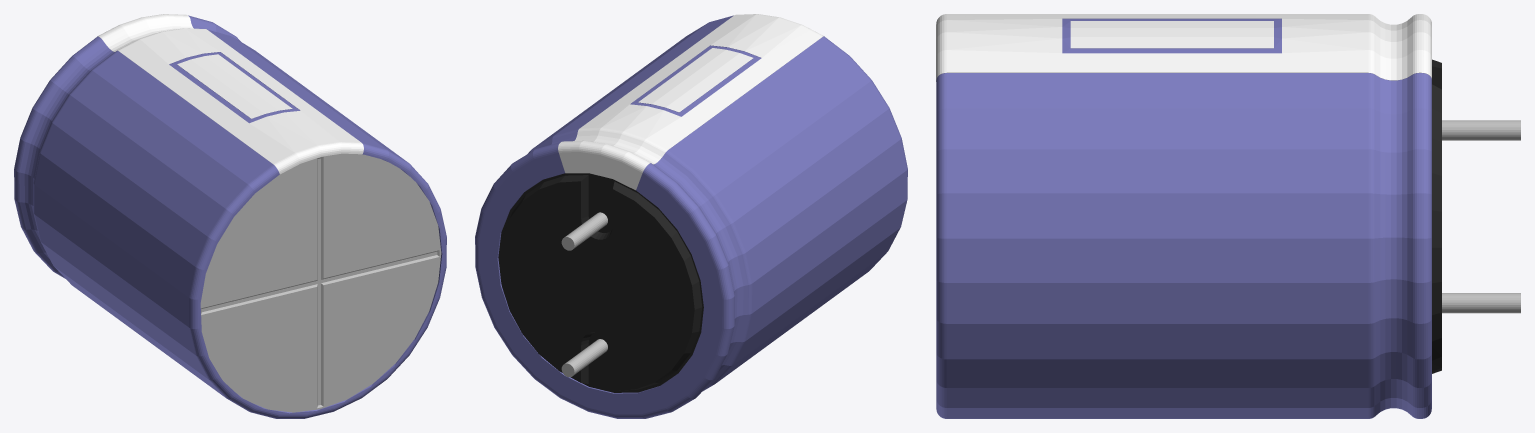
File: cap_el_d16_h20_pitch7.5_w0.8.obj
3 renders of one model, left to right at view 1: azimuth 30°, elevation 25°; view 2: azimuth 150°, elevation 25°; view 3: azimuth 270°, elevation 25°, orthographic. The views are drawn at different scales.
Visible parts, largest first — view 1: cap_el_d16_h20_pitch7.5_w0.8; view 2: cap_el_d16_h20_pitch7.5_w0.8; view 3: cap_el_d16_h20_pitch7.5_w0.8.
Part boxes in pixels (box(x1,y1,x2,y2)): cap_el_d16_h20_pitch7.5_w0.8: box(14, 14, 446, 418); cap_el_d16_h20_pitch7.5_w0.8: box(475, 14, 907, 418); cap_el_d16_h20_pitch7.5_w0.8: box(936, 14, 1520, 418).
Bounding box in the file's own units: 0.0205 × 0.0206 × 0.0297.
